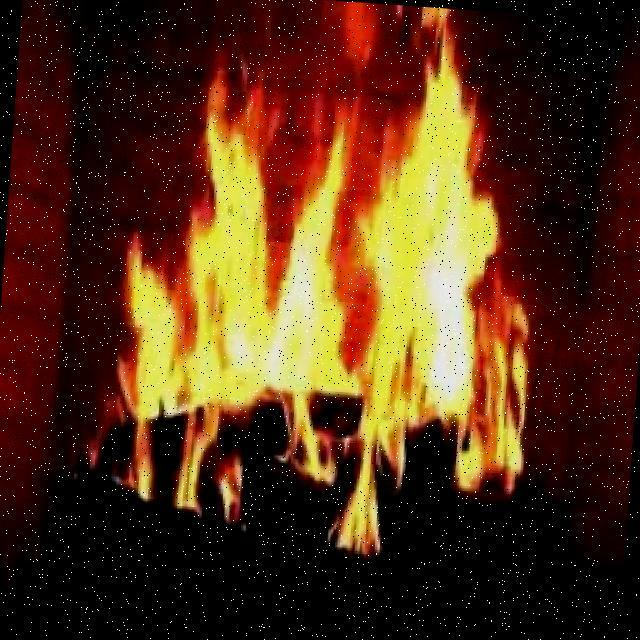Fire: (116, 16, 548, 459)
